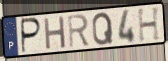4: (117, 8, 137, 45)
H: (136, 6, 162, 44), (42, 15, 67, 52)
P: (21, 17, 43, 55)
Q: (92, 11, 115, 47)
R: (67, 13, 91, 49)
